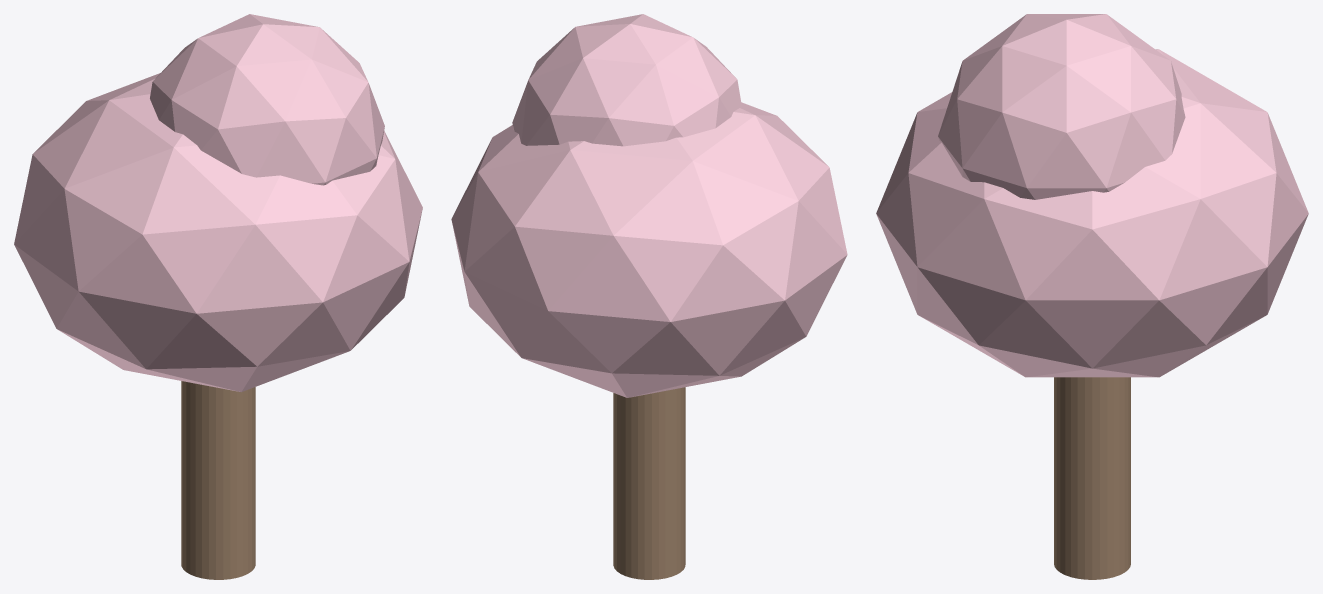
The model's file is flowering_tree.glb.
The picture shows the model from 3 angles, left to right: view 1: azimuth 30°, elevation 25°; view 2: azimuth 150°, elevation 25°; view 3: azimuth 270°, elevation 25°; orthographic projection. The views are drawn at different scales.
Visible parts, largest first — view 1: Icosphere, Icosphere.001, Cylinder; view 2: Icosphere, Icosphere.001, Cylinder; view 3: Icosphere, Icosphere.001, Cylinder.
Part boxes in pixels (bbox=[...]): Icosphere: bbox=[14, 73, 422, 392]; Icosphere.001: bbox=[150, 14, 384, 185]; Cylinder: bbox=[181, 381, 255, 579]; Icosphere: bbox=[451, 102, 847, 397]; Icosphere.001: bbox=[512, 14, 741, 146]; Cylinder: bbox=[613, 387, 685, 579]; Icosphere: bbox=[876, 49, 1308, 377]; Icosphere.001: bbox=[938, 14, 1185, 199]; Cylinder: bbox=[1054, 377, 1130, 579].
Bounding box in the file's own units: 3.2 × 4.8 × 3.36.
